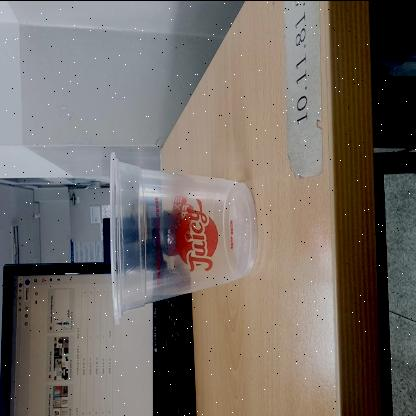Others: (109, 149, 257, 327)
